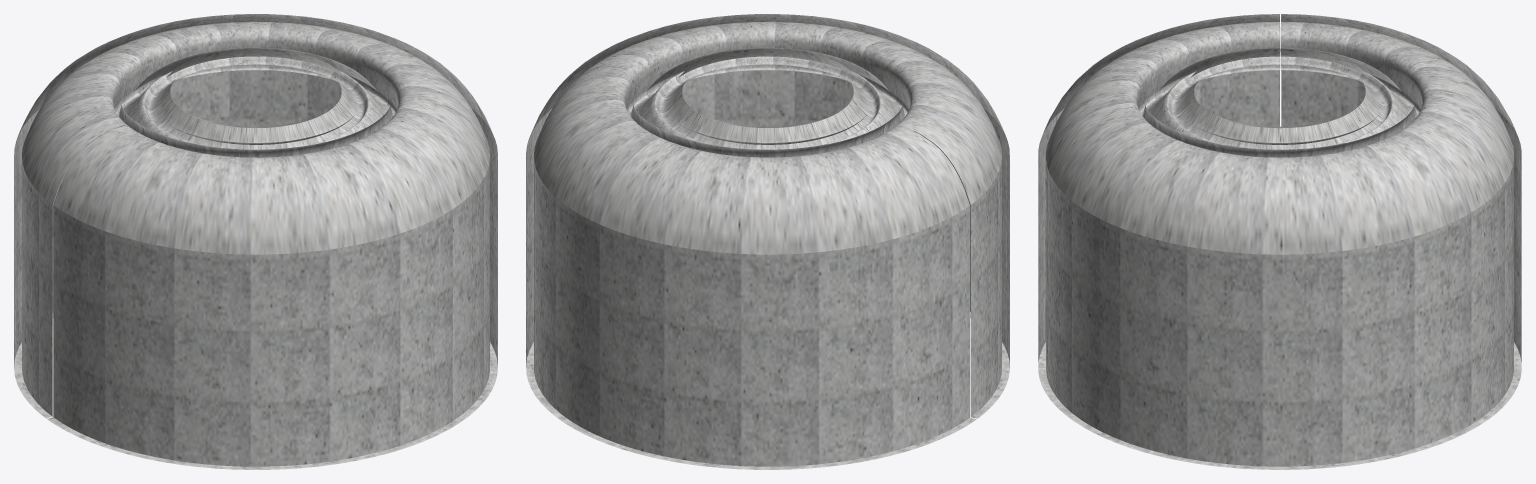
Rendered from gall1.glb.
3 renders of one model, left to right at view 1: azimuth 30°, elevation 25°; view 2: azimuth 150°, elevation 25°; view 3: azimuth 270°, elevation 25°, orthographic.
Bounding box in the file's own units: 61.99 × 39.76 × 61.96.
Materials: 1 (1 with a texture image).
